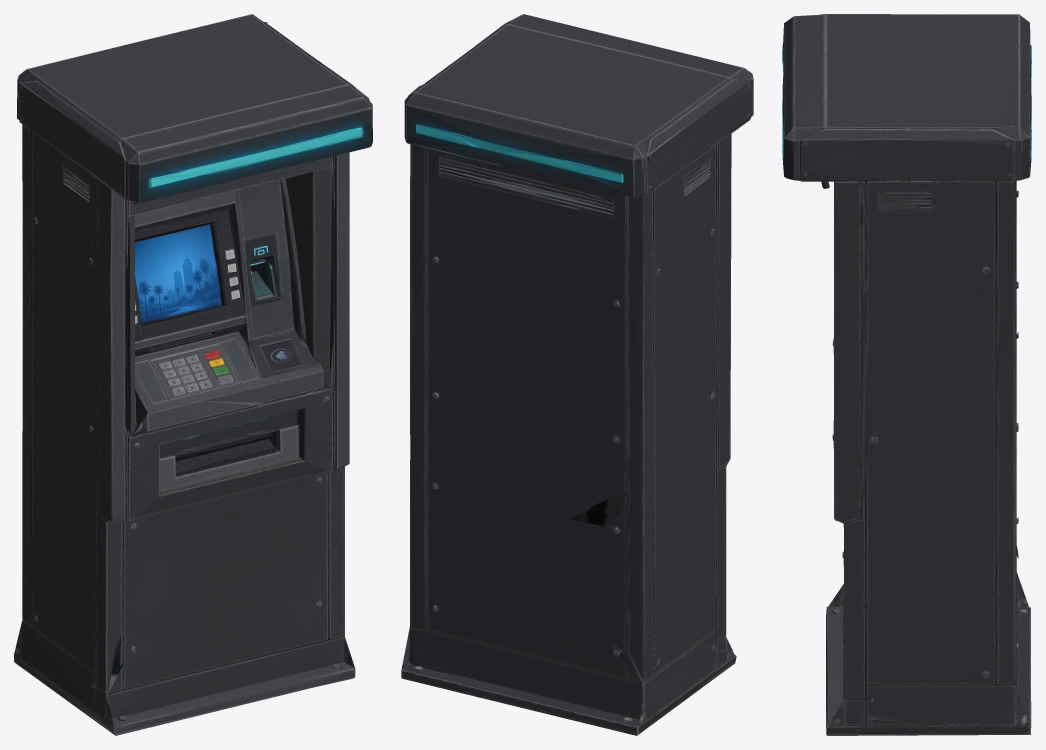
File: atm.glb
3 views of the same model, side by side, from view 1: azimuth 30°, elevation 25°; view 2: azimuth 150°, elevation 25°; view 3: azimuth 270°, elevation 25° (orthographic). The views are drawn at different scales.
Parts seen in each view (by area): view 1: output_unwrapped; view 2: output_unwrapped; view 3: output_unwrapped.
Part boxes in pixels (x1,y1,x2,y2): output_unwrapped: (14,14,372,735); output_unwrapped: (401,14,753,735); output_unwrapped: (782,14,1031,735).
Size of the model in its own units: 0.8243 by 1.9 by 0.7089.
Materials: 1 (1 with a texture image).
